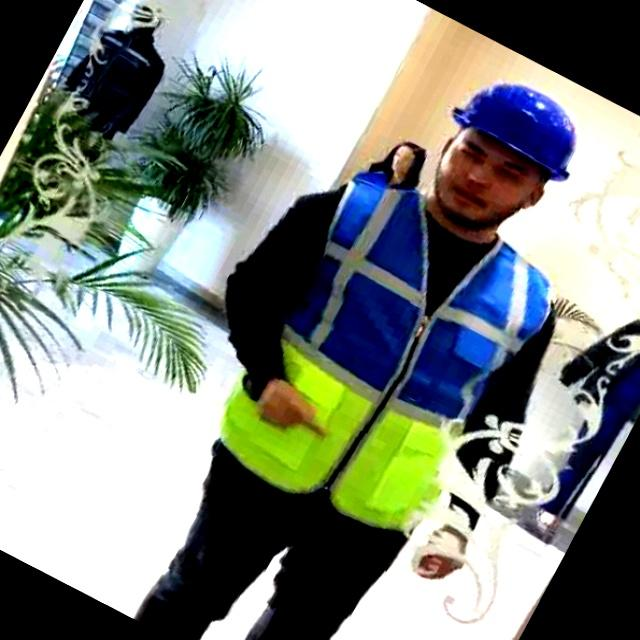helmet: (450, 77, 586, 188)
safety_vest: (219, 187, 558, 557)
